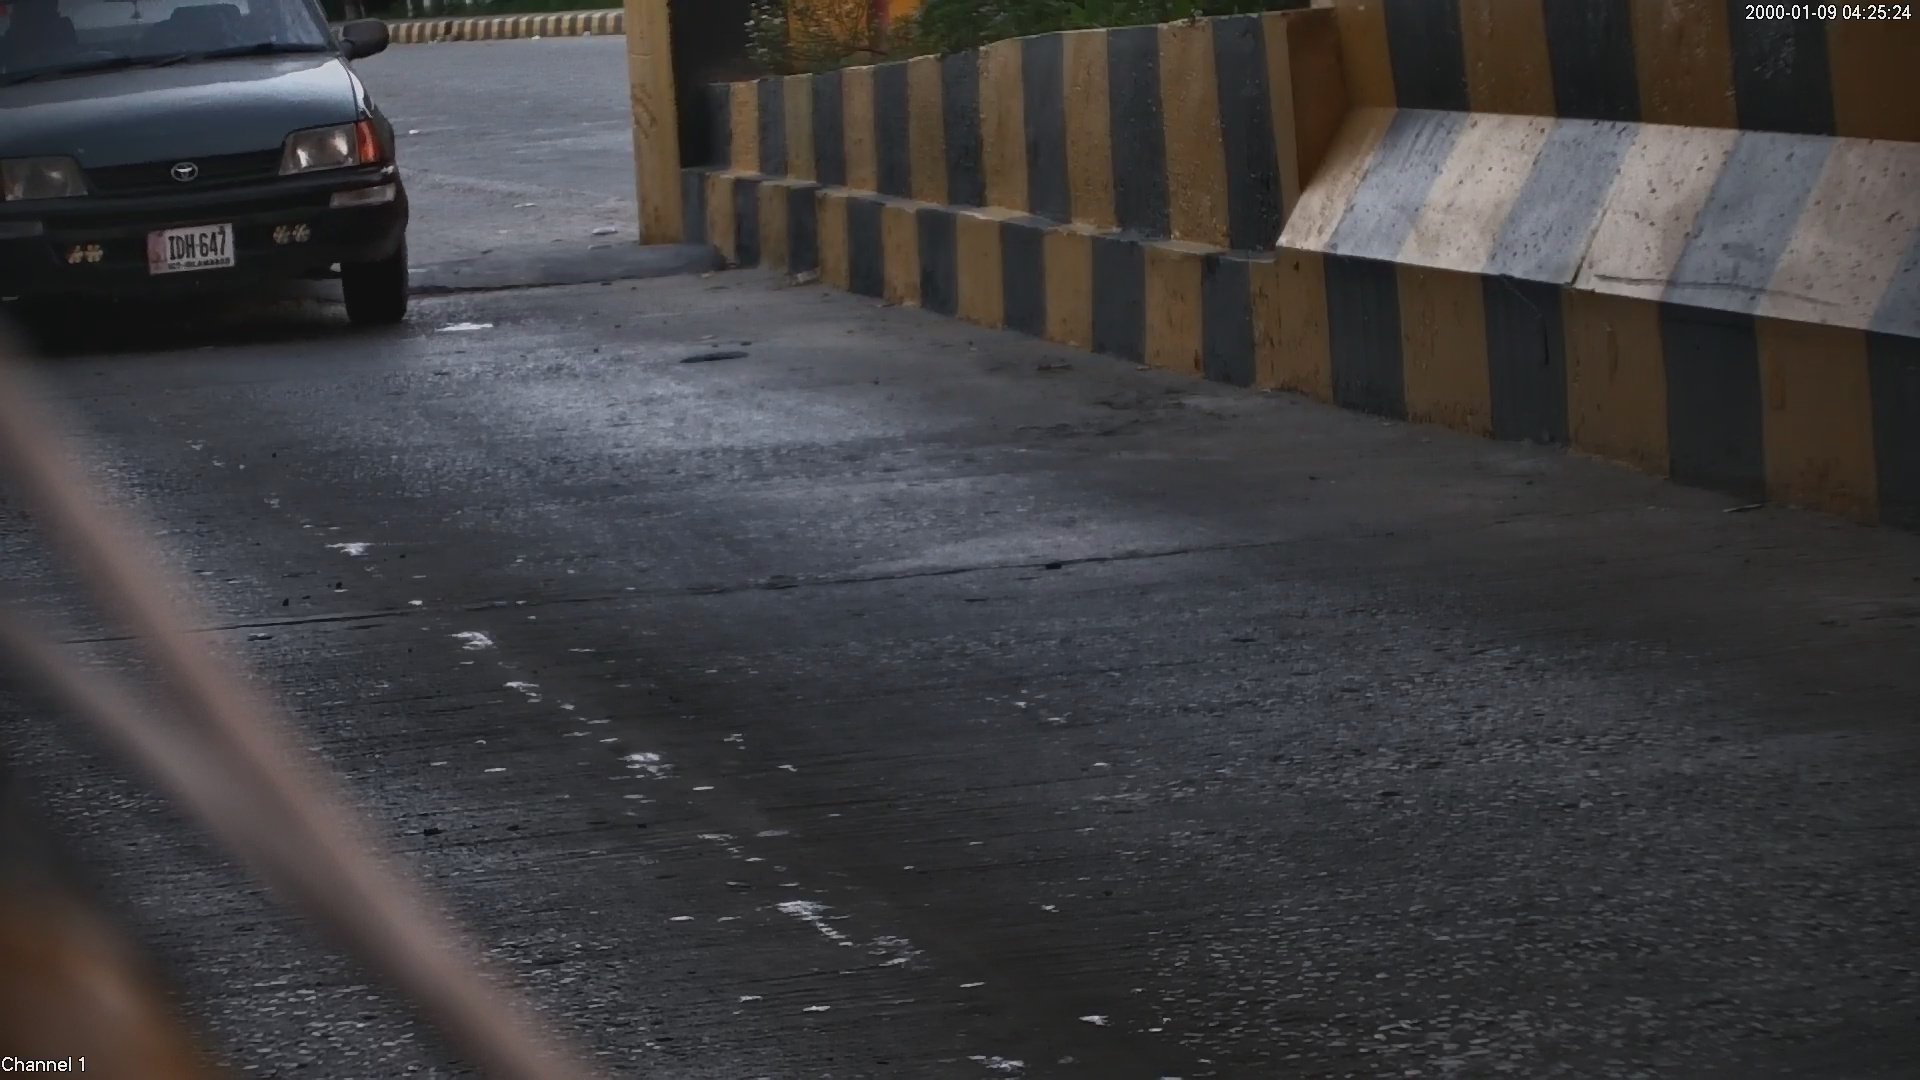Number_Plate: (137, 229, 245, 275)
